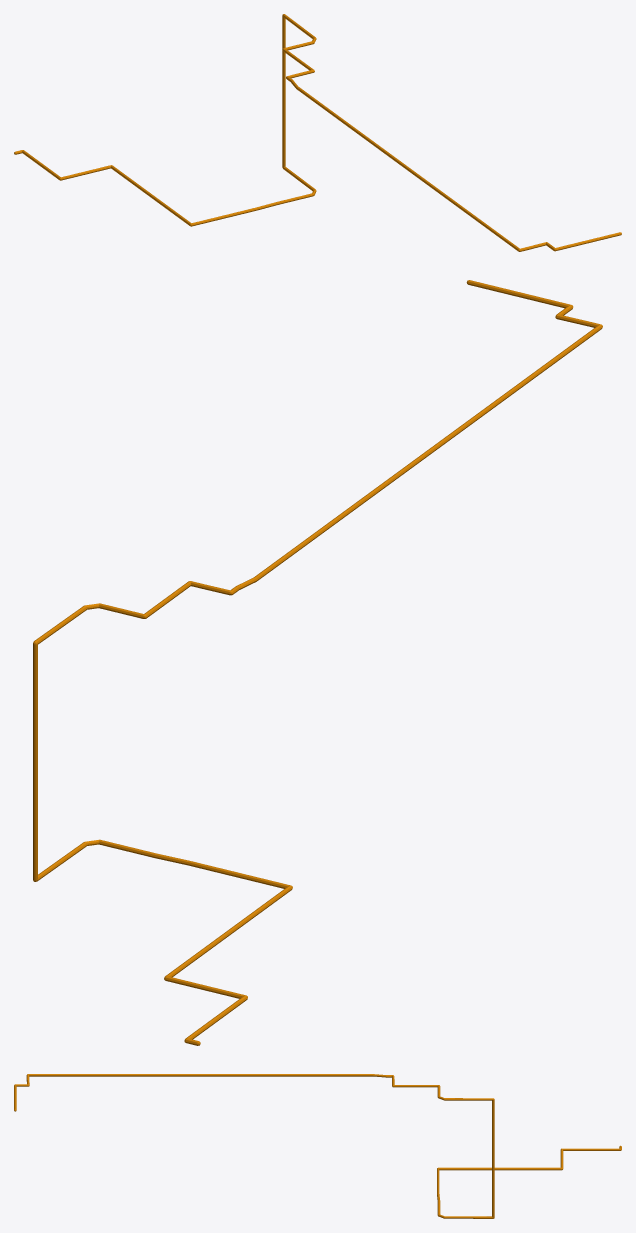
3 views of the same model, one above another, from view 1: azimuth 30°, elevation 25°; view 2: azimuth 150°, elevation 25°; view 3: azimuth 270°, elevation 25° (orthographic). The views are drawn at different scales.
Bounding box in the file's own units: 1501 × 1020 × 4663.
